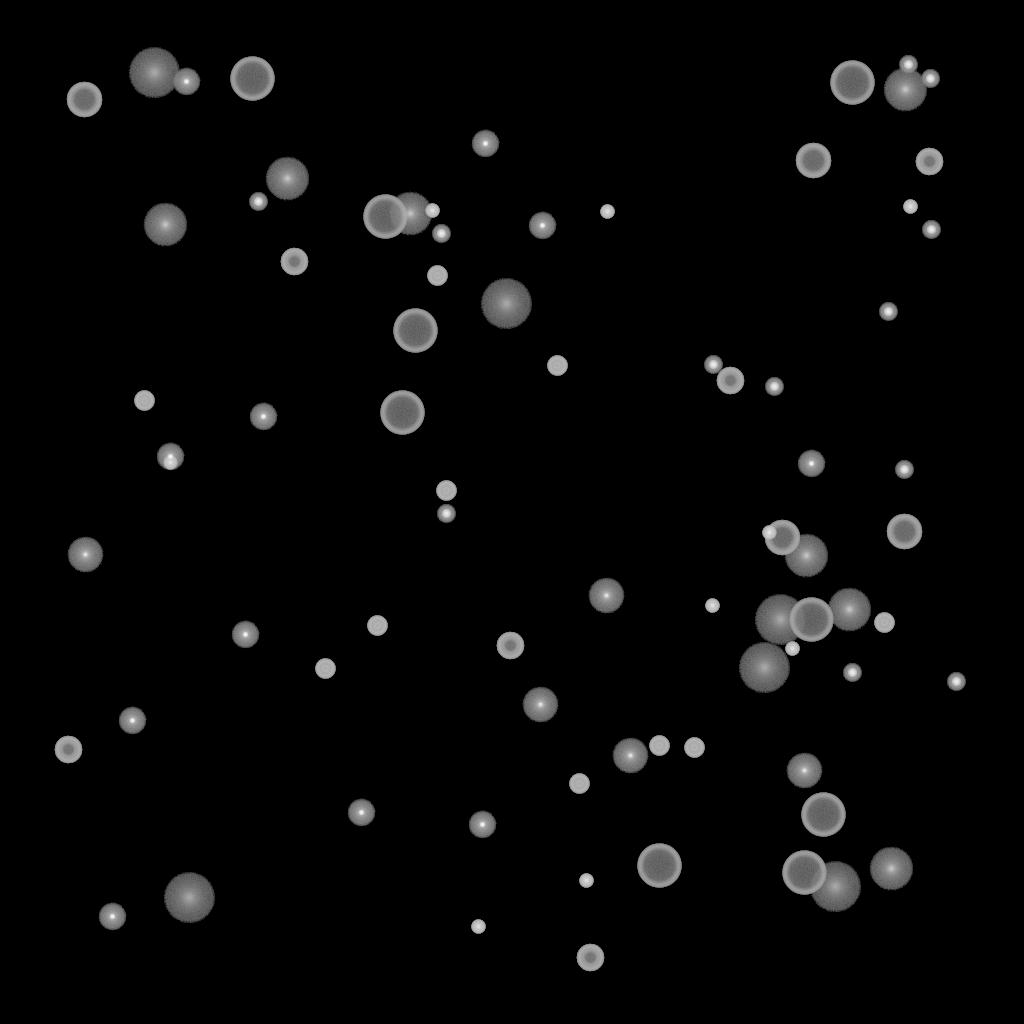depth:-10: (797, 450, 825, 478), (98, 903, 126, 931), (172, 68, 200, 96), (347, 799, 375, 827), (528, 212, 556, 240), (156, 443, 184, 471), (231, 621, 259, 649), (249, 403, 277, 431), (468, 811, 496, 839), (118, 707, 146, 735), (471, 130, 499, 158)
depth:-20: (704, 356, 722, 374), (765, 378, 783, 396), (947, 673, 965, 691), (922, 221, 940, 239), (432, 225, 450, 243), (437, 505, 455, 523), (879, 303, 897, 321), (895, 461, 913, 479), (843, 664, 861, 682), (899, 56, 917, 74), (249, 193, 267, 211), (921, 70, 939, 88)
depth:-30: (785, 642, 799, 656), (579, 874, 593, 888), (425, 204, 439, 218), (705, 599, 719, 613), (600, 205, 614, 219), (471, 920, 485, 934), (762, 526, 776, 540), (903, 200, 917, 214), (163, 456, 177, 470)
depth:-40: (569, 774, 589, 794), (427, 266, 447, 286), (547, 356, 567, 376), (874, 613, 894, 633), (436, 481, 456, 501), (649, 736, 669, 756), (684, 738, 704, 758), (315, 659, 335, 679), (367, 616, 387, 636), (134, 391, 154, 411)
depth:-50: (576, 944, 604, 972), (54, 736, 82, 764), (496, 632, 524, 660), (716, 367, 744, 395), (915, 148, 943, 176), (280, 248, 308, 276)
depth:-60: (764, 520, 800, 556), (886, 514, 922, 550), (66, 82, 102, 118), (795, 143, 831, 179)
depth:-70: (789, 598, 833, 642), (637, 844, 681, 888), (801, 793, 845, 837), (830, 61, 874, 105), (782, 851, 826, 895), (393, 309, 437, 353), (363, 195, 407, 239), (230, 57, 274, 101), (380, 391, 424, 435)
depth:0: (67, 537, 103, 573), (522, 687, 558, 723), (588, 578, 624, 614), (612, 738, 648, 774), (786, 753, 822, 789)
depth:10: (883, 68, 927, 112), (784, 534, 828, 578), (827, 588, 871, 632), (143, 203, 187, 247), (388, 192, 432, 236), (869, 847, 913, 891), (265, 157, 309, 201)
depth:20: (480, 279, 532, 329), (738, 643, 790, 693), (163, 873, 215, 923), (128, 48, 180, 98), (809, 862, 861, 912), (754, 595, 806, 645)
